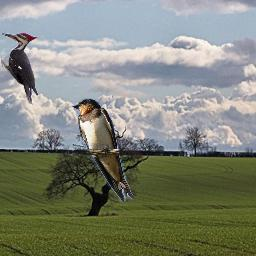Swallow: (71, 98, 133, 202)
Woodpecker: (1, 33, 39, 105)
